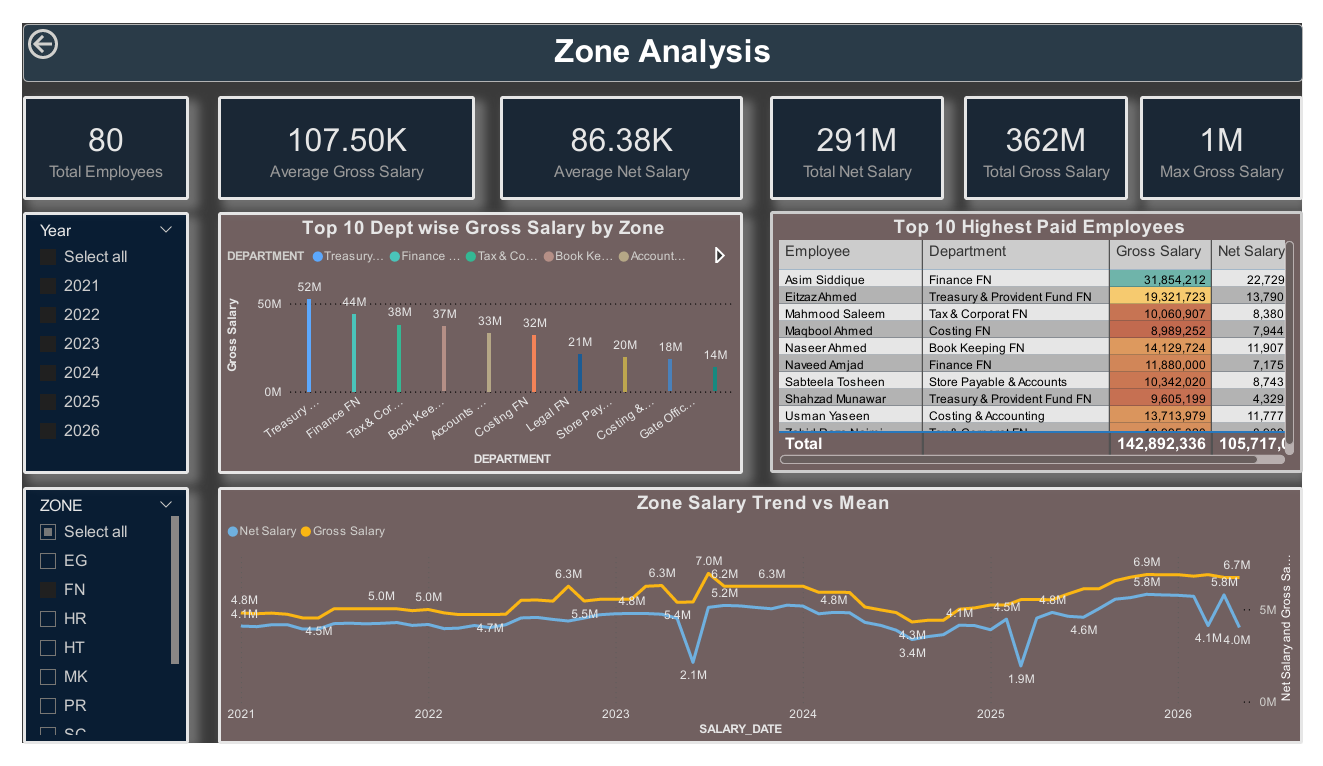

What the dashboard file says about the page in this screenshot:
{"tool":"powerbi","page":{"name":"Zone Analysis","canvas":[1280,720],"ordinal":9},"visuals":[{"type":"textbox","box":[0,0,1280,57.9],"z":0},{"type":"slicer","fields":{"Values":["AI_PAYROLL_DATA.ZONE"]},"box":[0,463.3,166.5,257],"z":1000},{"type":"slicer","fields":{"Values":["DateTable.Year"]},"box":[0,188.2,166.5,261.8],"z":2000},{"type":"actionButton","box":[0,0,100,40],"z":3000},{"type":"clusteredColumnChart","title":"Top 10 Dept wise Gross Salary by Zone","fields":{"Category":["AI_PAYROLL_DATA.DEPARTMENT"],"Y":["Sum(AI_PAYROLL_DATA.GROSS_SALARY)"],"Series":["AI_PAYROLL_DATA.DEPARTMENT"]},"box":[195.4,188.2,524.8,261.8],"z":4000},{"type":"card","fields":{"Values":["AI_PAYROLL_DATA.Total Employees"]},"box":[0,72.4,166.5,103.8],"z":5000},{"type":"card","fields":{"Values":["AI_PAYROLL_DATA.Average Gross Salary"]},"box":[195.4,72.4,257,103.8],"z":6000},{"type":"card","fields":{"Values":["AI_PAYROLL_DATA.Total Net Salary"]},"box":[746.8,72.4,173.7,103.8],"z":7000},{"type":"card","fields":{"Values":["AI_PAYROLL_DATA.Total Gross Salary"]},"box":[941,72.4,164.1,103.8],"z":8000},{"type":"card","fields":{"Values":["AI_PAYROLL_DATA.Max Gross Salary"]},"box":[1117.2,72.4,162.9,103.8],"z":9000},{"type":"card","fields":{"Values":["AI_PAYROLL_DATA.Average Net Salary"]},"box":[476.5,72.4,243.7,103.8],"z":10000},{"type":"lineChart","title":"Zone Salary Trend vs Mean","fields":{"Category":["AI_PAYROLL_DATA.SALARY_DATE"],"Y2":["Sum(AI_PAYROLL_DATA.NET_SALARY)","Sum(AI_PAYROLL_DATA.GROSS_SALARY)"]},"box":[195.4,463.3,1084.6,257],"z":11000},{"type":"tableEx","title":"Top 10 Highest Paid Employees","fields":{"Values":["AI_PAYROLL_DATA.EMPLOYEE_NAME","AI_PAYROLL_DATA.DEPARTMENT","Sum(AI_PAYROLL_DATA.GROSS_SALARY)","Sum(AI_PAYROLL_DATA.NET_SALARY)"]},"box":[746.8,187,533.2,261.8],"z":12000}]}

Visuals, with their boxes in screenshot pixels (x1, y1, x2, y2), scaled from the page's 1280x720 canvas onto the 1323x766 screenshot:
textbox: BBox(0, 0, 1322, 62)
slicer - AI_PAYROLL_DATA.ZONE: BBox(0, 493, 172, 765)
slicer - DateTable.Year: BBox(0, 200, 172, 479)
actionButton: BBox(0, 0, 103, 43)
"Top 10 Dept wise Gross Salary by Zone" clusteredColumnChart: BBox(202, 200, 744, 479)
card - AI_PAYROLL_DATA.Total Employees: BBox(0, 77, 172, 187)
card - AI_PAYROLL_DATA.Average Gross Salary: BBox(202, 77, 468, 187)
card - AI_PAYROLL_DATA.Total Net Salary: BBox(772, 77, 951, 187)
card - AI_PAYROLL_DATA.Total Gross Salary: BBox(973, 77, 1142, 187)
card - AI_PAYROLL_DATA.Max Gross Salary: BBox(1155, 77, 1322, 187)
card - AI_PAYROLL_DATA.Average Net Salary: BBox(493, 77, 744, 187)
"Zone Salary Trend vs Mean" lineChart: BBox(202, 493, 1322, 765)
"Top 10 Highest Paid Employees" tableEx: BBox(772, 199, 1322, 477)
